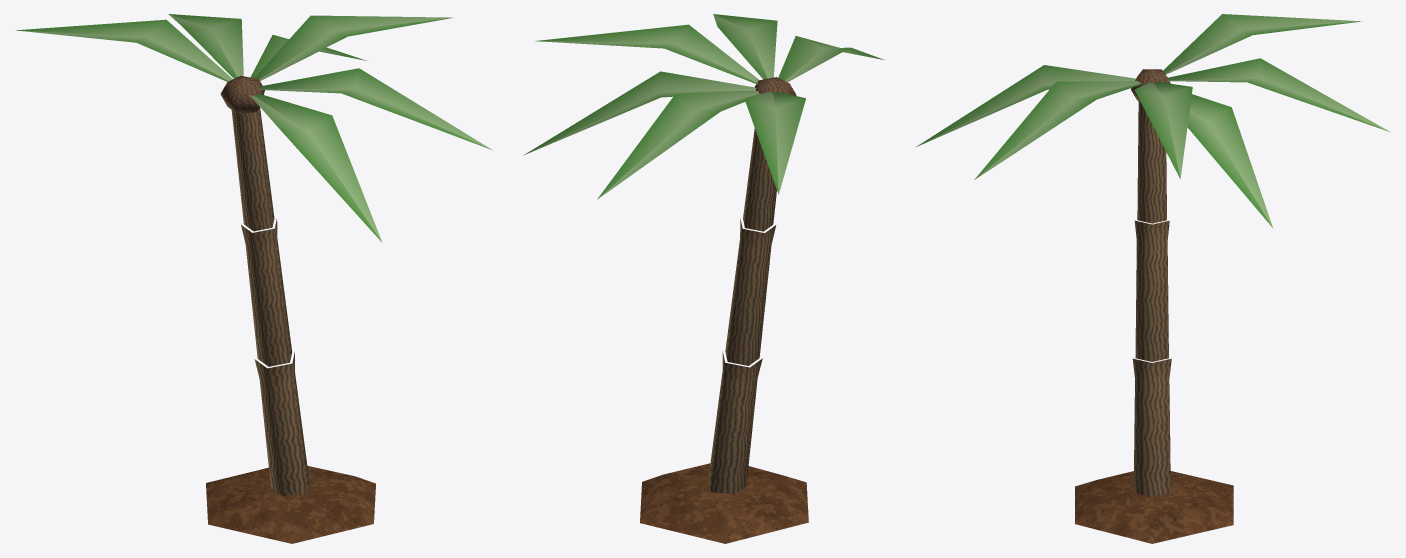
Rendered from plant-coconut-3-far.glb.
3 views of the same model, side by side, from view 1: azimuth 30°, elevation 25°; view 2: azimuth 150°, elevation 25°; view 3: azimuth 270°, elevation 25° (orthographic). The views are drawn at different scales.
Parts seen in each view (by area): view 1: plant-coconut-3-far; view 2: plant-coconut-3-far; view 3: plant-coconut-3-far.
Part boxes in pixels (bbox=[...]): plant-coconut-3-far: bbox=[15, 14, 492, 543]; plant-coconut-3-far: bbox=[523, 14, 883, 543]; plant-coconut-3-far: bbox=[915, 14, 1389, 543].
Bounding box in the file's own units: 2.05 × 2.63 × 2.61.
3 materials, 2 textured.
